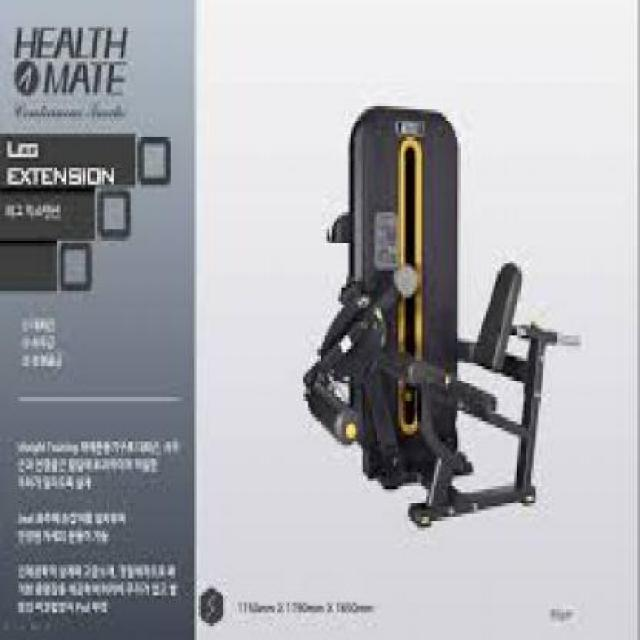leg extension: (284, 98, 590, 551)
